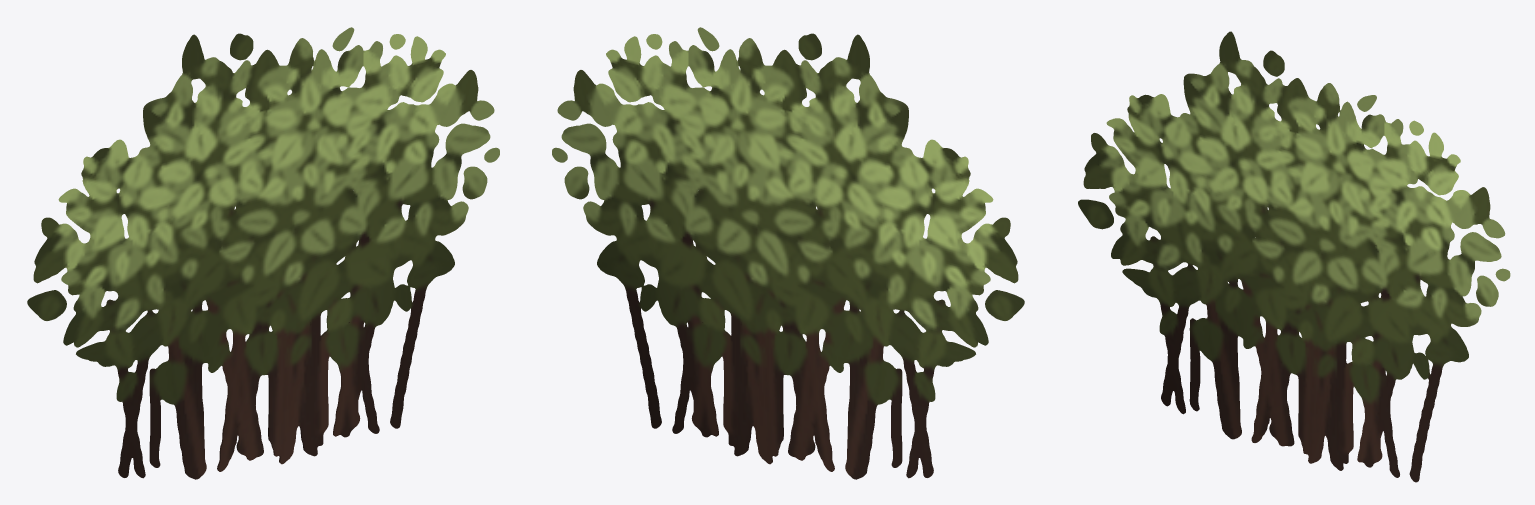
File: hp_bush011.glb
3 renders of one model, left to right at view 1: azimuth 30°, elevation 25°; view 2: azimuth 150°, elevation 25°; view 3: azimuth 330°, elevation 25°, orthographic. The views are drawn at different scales.
Parts seen in each view (by area): view 1: _MeshInstance3D_2; view 2: _MeshInstance3D_2; view 3: _MeshInstance3D_2.
Part boxes in pixels (x1,y1,x2,y2): _MeshInstance3D_2: [27, 27, 499, 479]; _MeshInstance3D_2: [552, 27, 1024, 479]; _MeshInstance3D_2: [1078, 31, 1510, 482].
Bounding box in the file's own units: 10.08 × 9.27 × 0.04.
1 material, 1 textured.
